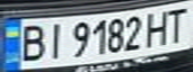1: (87, 17, 109, 56)
2: (121, 12, 148, 52)
8: (106, 16, 127, 54)
9: (66, 18, 90, 58)
B: (12, 21, 48, 62)
H: (142, 8, 172, 47)
I: (42, 19, 69, 61)
T: (163, 5, 190, 44)
